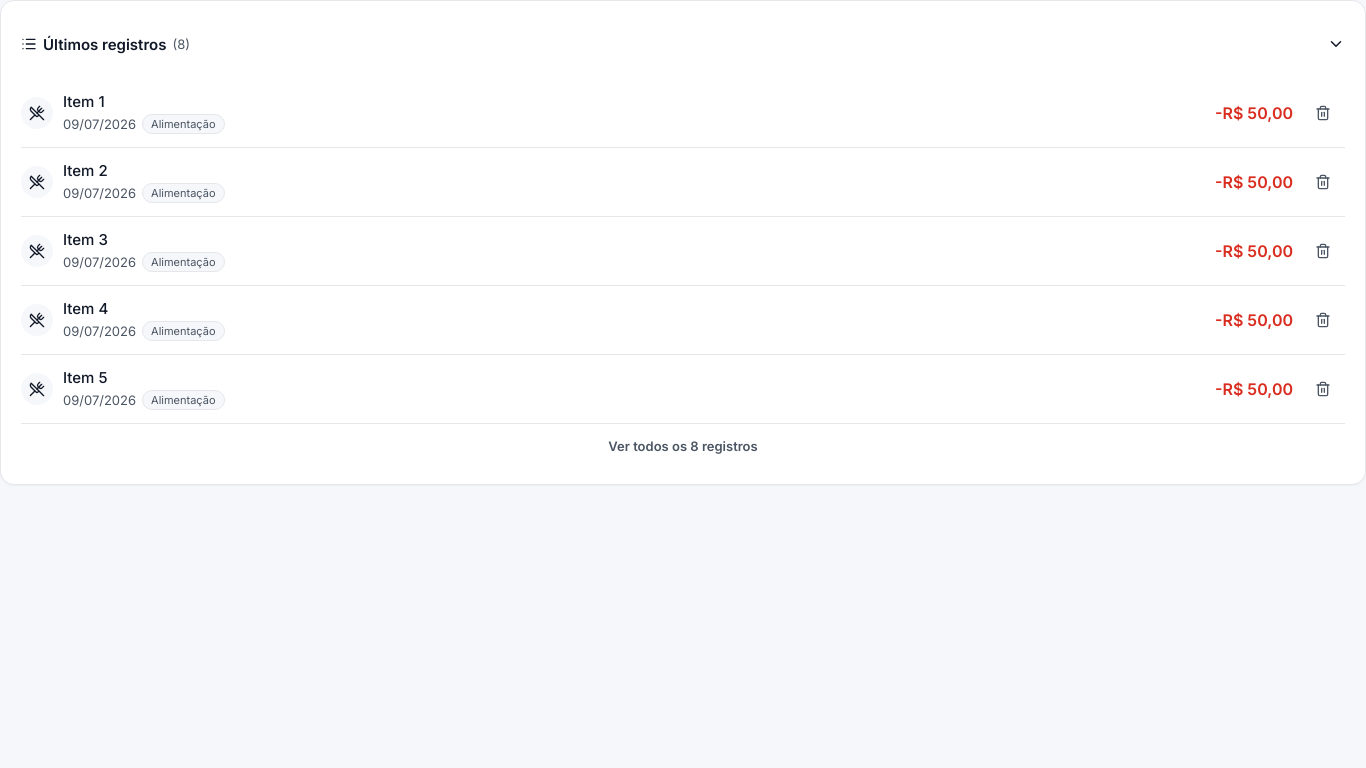
Test: ListaLancamentos › expande ao clicar no cabeçalho ou no botão 'ver todos'
Click the button "Ver todos os 8 registros": (683, 446) [21,428,1345,464]
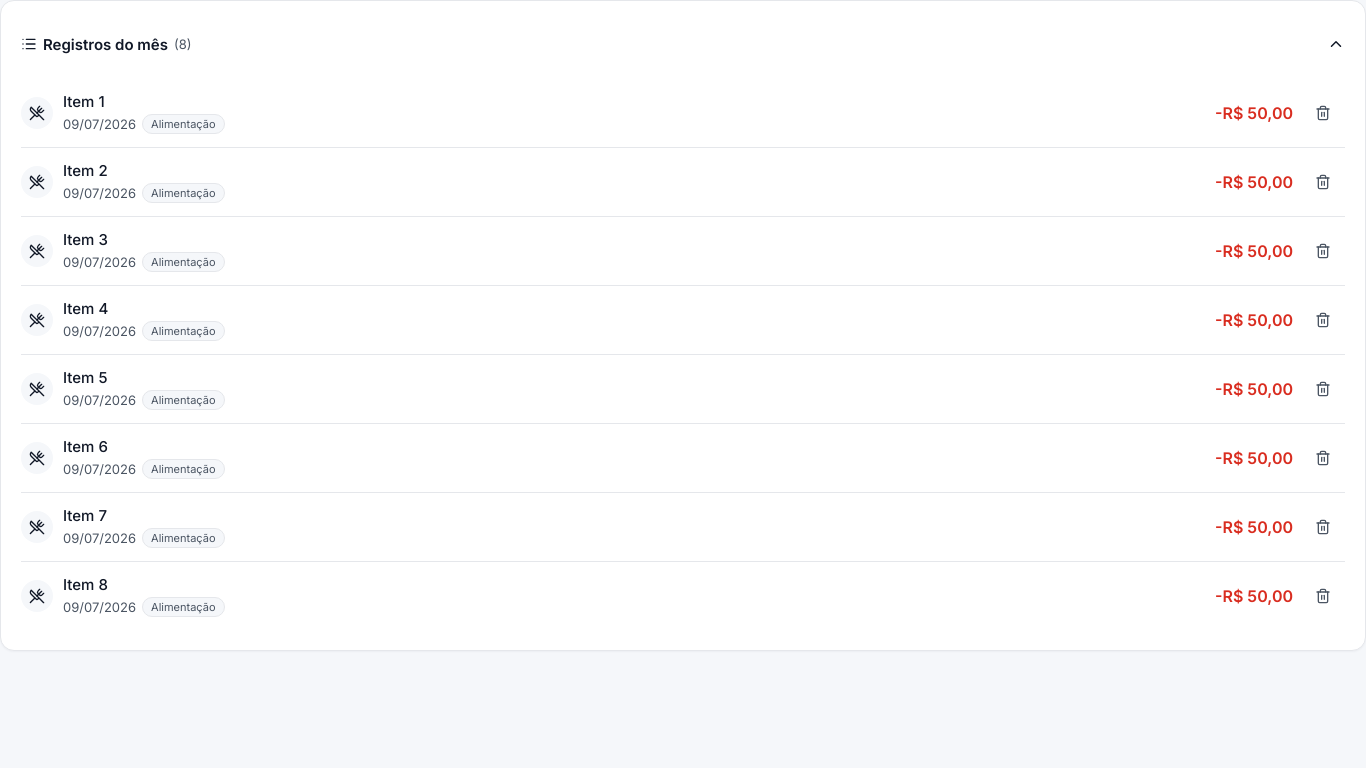
Result: the heading "Registros do mês (8)" is shown at [21,34,192,54]
Result: the text "Item 8" is shown at [63,575,108,594]
